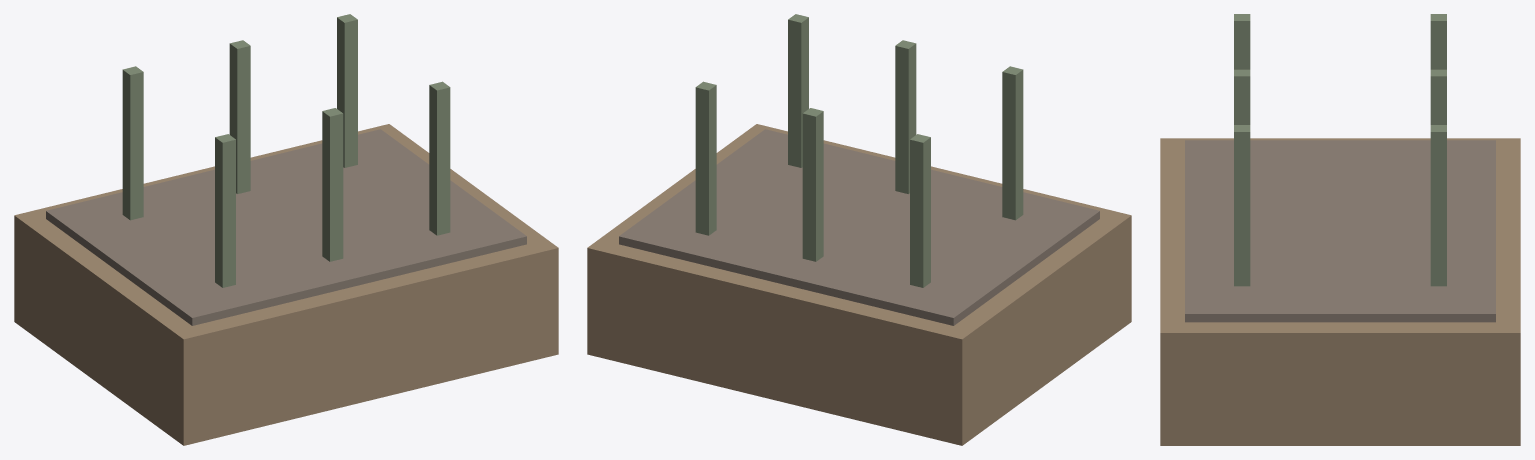
Rendered from iz2_farm_vertical_planter.glb.
The picture shows the model from 3 angles, left to right: view 1: azimuth 30°, elevation 25°; view 2: azimuth 150°, elevation 25°; view 3: azimuth 270°, elevation 25°; orthographic projection. The views are drawn at different scales.
Parts seen in each view (by area): view 1: body; view 2: body; view 3: body.
Boxes of the visible parts, <box> form: body: <box>14,14,558,445</box>; body: <box>587,14,1131,445</box>; body: <box>1160,14,1520,445</box>.
Bounding box in the file's own units: 1.44 × 0.9555 × 1.13.
